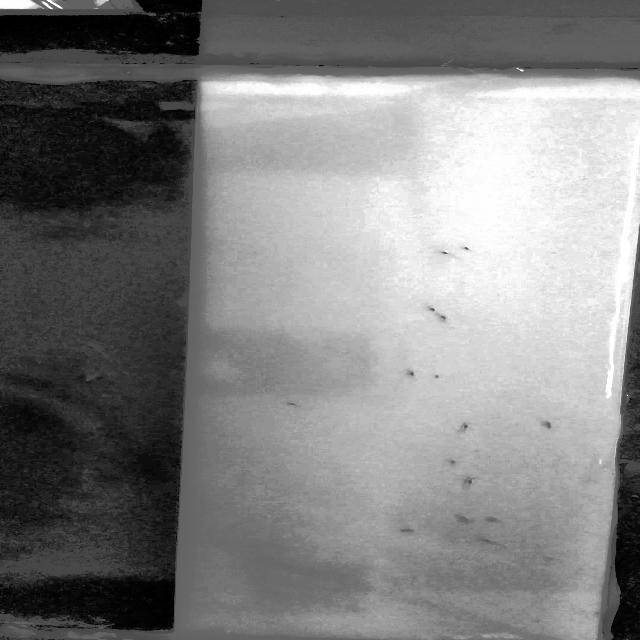shrimp: (539, 419, 564, 433), (477, 536, 508, 547), (400, 529, 426, 539), (438, 313, 455, 326), (455, 515, 477, 524), (424, 303, 440, 314), (404, 367, 420, 378), (459, 246, 484, 253), (449, 458, 463, 470), (486, 516, 502, 526), (460, 419, 470, 434), (460, 478, 478, 486), (438, 250, 457, 257), (434, 378, 451, 382), (286, 404, 298, 408)
